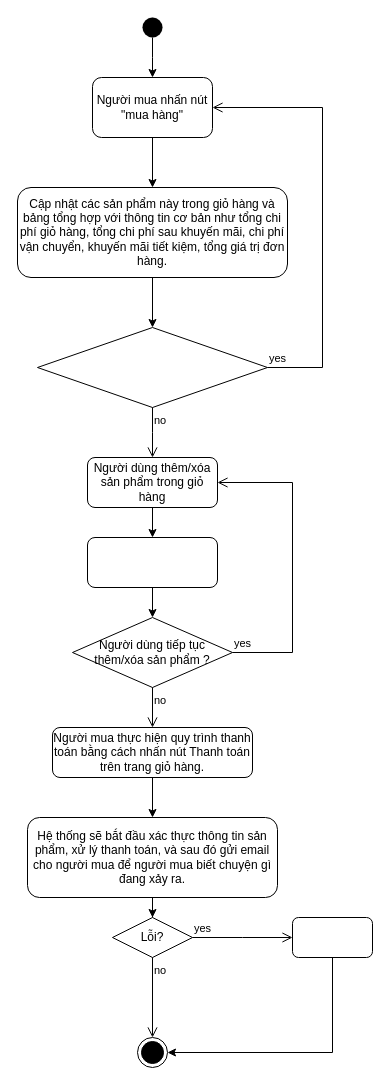
Image size: 390x1085. Some labels were removed from this diagram. Each missing label, with the box of its shape:
Cập nhật bảng tổng hợp và giỏ hàng.: (86, 536, 218, 588)
Người dùng tiếp tục mua hàng ?: (36, 326, 268, 408)
Thông báo lỗi: (292, 916, 372, 958)
